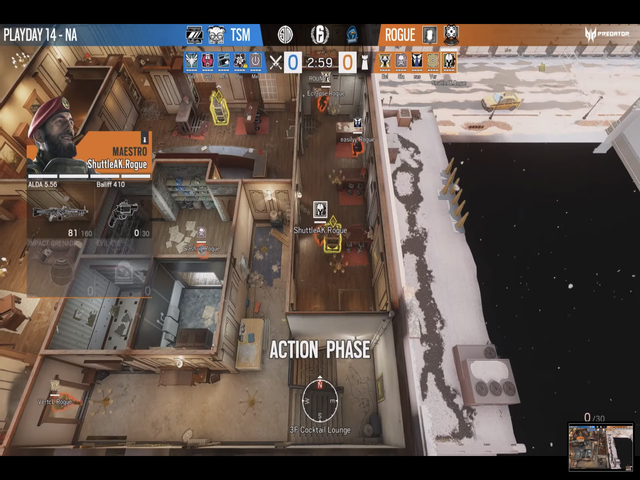0_blue: (284, 49, 302, 72)
